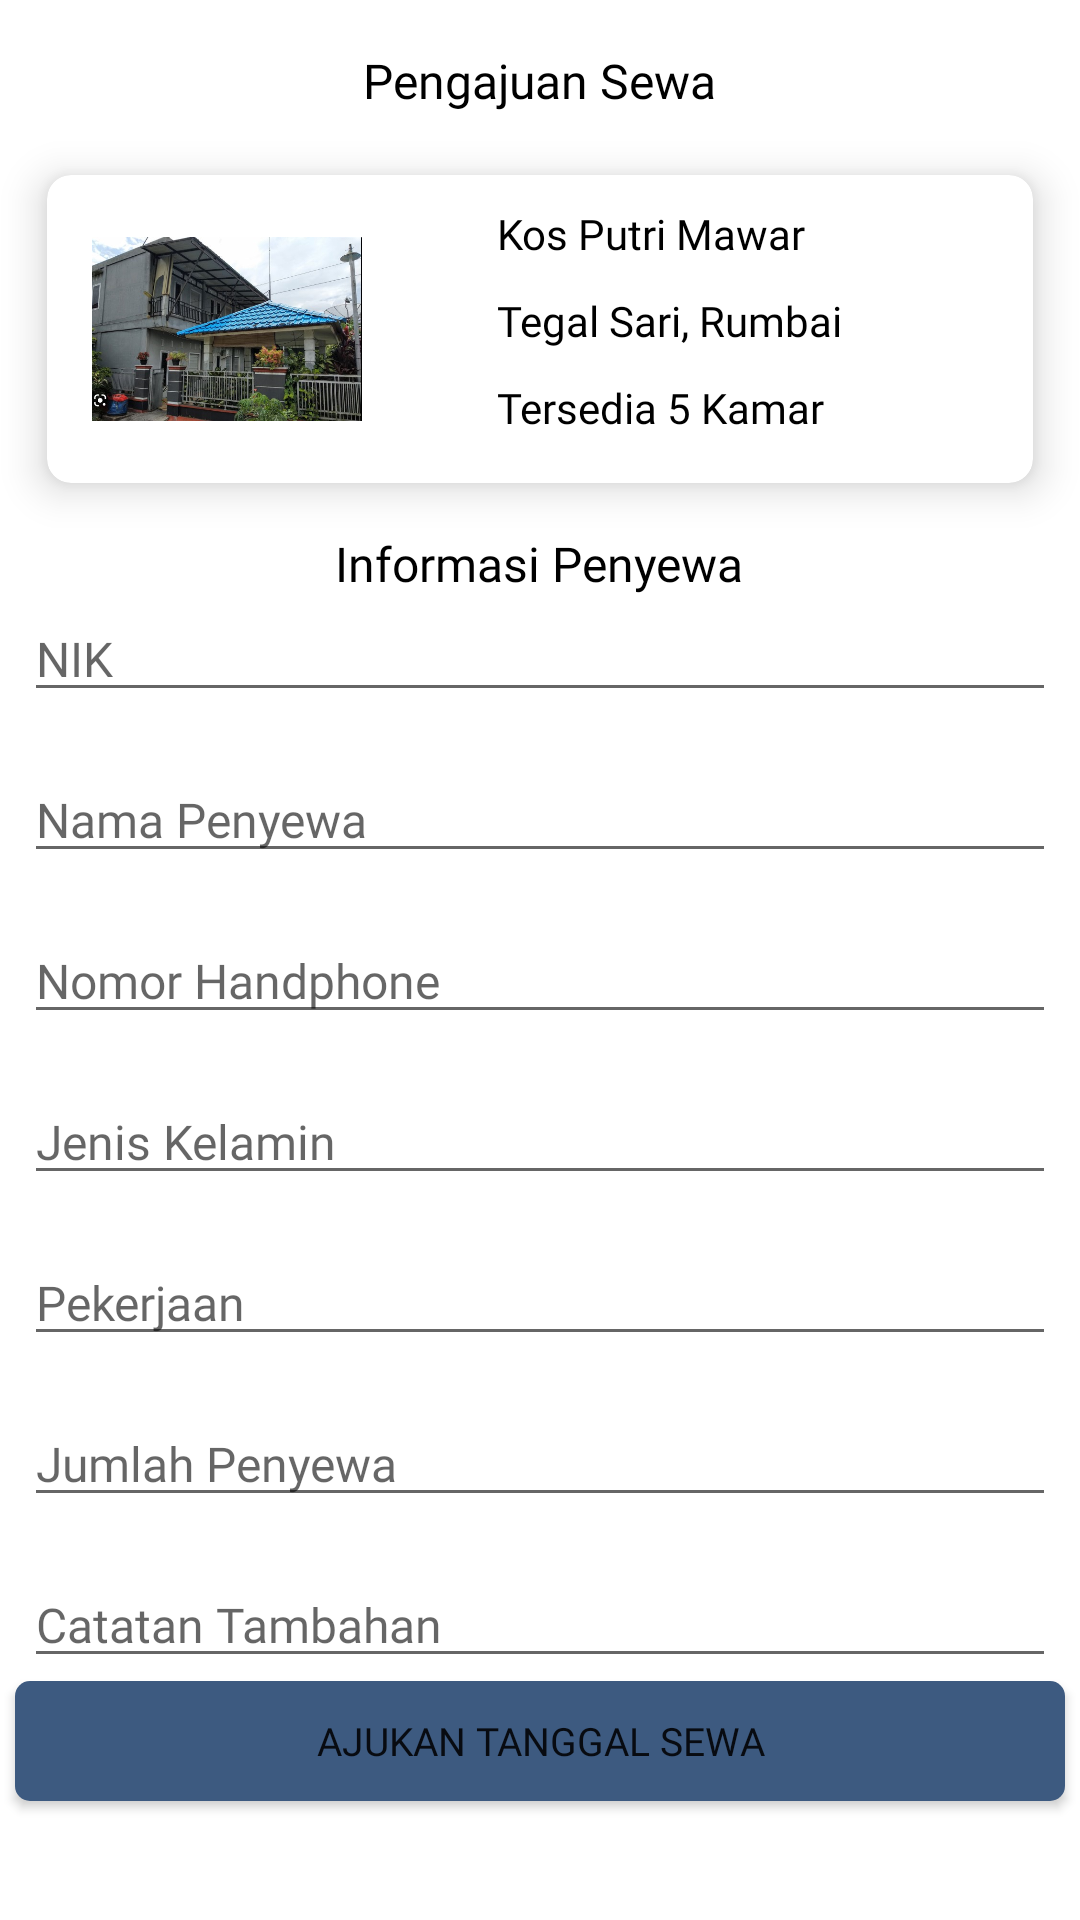

Screen size 1080x1920. Icon name, then its box in pixels as [x1,y1,x2,y2]:
kosan: [92,237,362,421]
